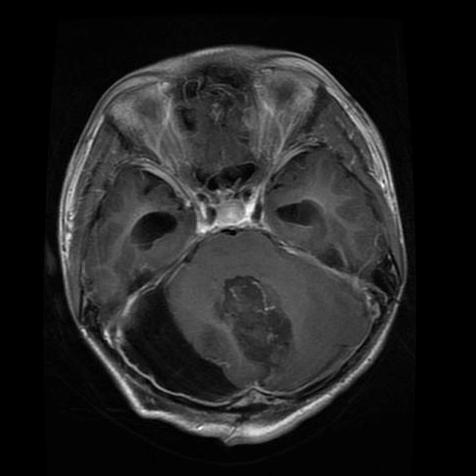Tumour-Glioma: (103, 284, 250, 405)
